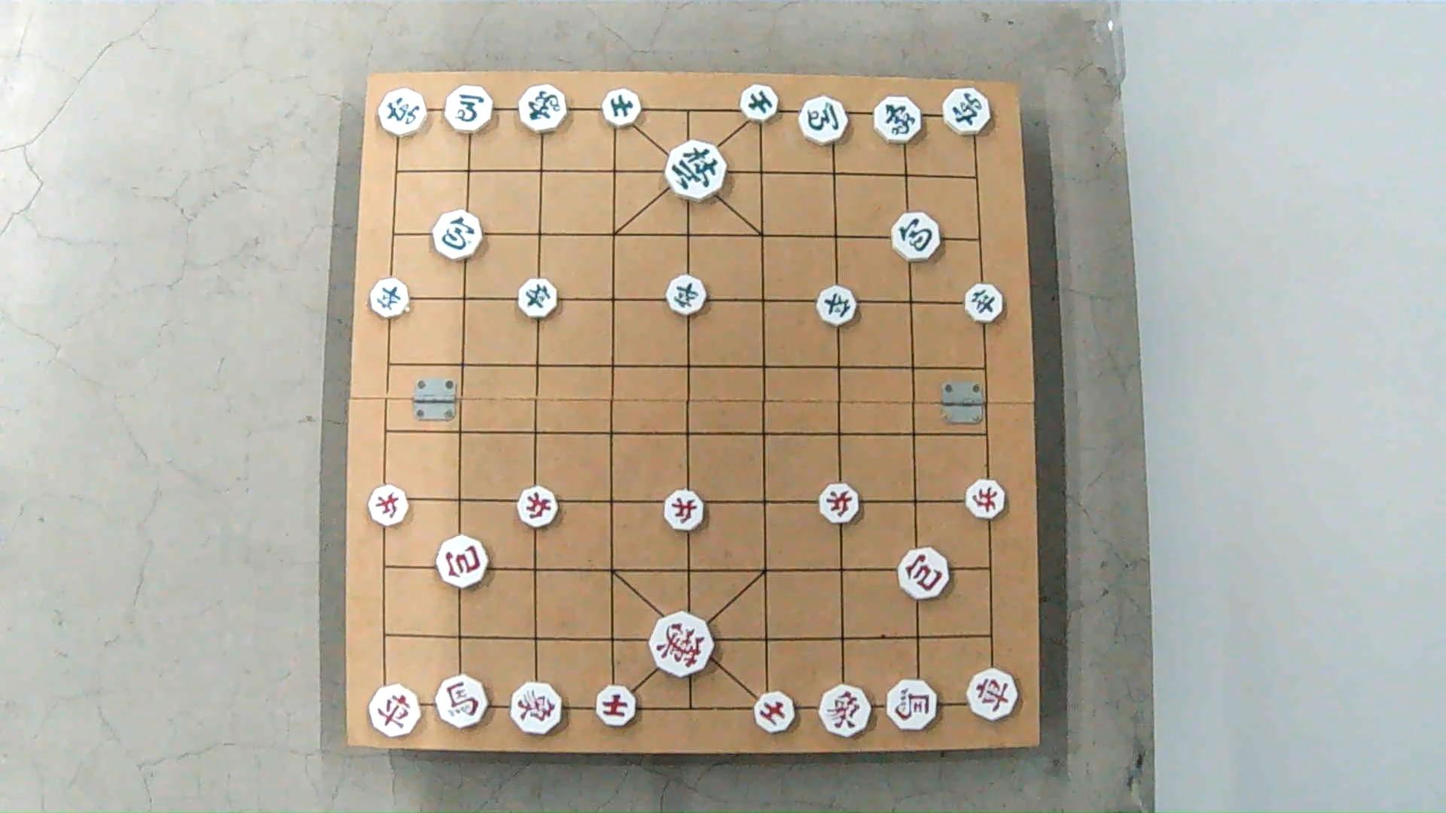cha_green: (377, 86, 427, 136), (943, 90, 993, 136)
cha_red: (966, 665, 1020, 723), (369, 685, 422, 738)
jol_green: (814, 289, 856, 327), (516, 279, 558, 317), (663, 278, 704, 316), (962, 285, 1002, 323), (370, 282, 411, 318)
jol_red: (815, 484, 859, 523), (520, 488, 562, 527), (963, 480, 1005, 519), (660, 491, 702, 530), (369, 487, 411, 525)
ma_green: (799, 96, 850, 145), (445, 87, 496, 131)
ma_red: (883, 677, 941, 731), (432, 678, 487, 728)
po_green: (435, 210, 485, 258), (889, 212, 938, 259)
po_red: (438, 537, 490, 586), (896, 550, 948, 599)
sa_green: (602, 90, 645, 126), (737, 85, 777, 120)
sa_red: (594, 685, 641, 728), (755, 690, 796, 732)
sang_green: (874, 95, 924, 143), (520, 85, 570, 131)
sang_red: (816, 682, 874, 738), (507, 682, 565, 733)
wang_green: (663, 144, 725, 200)
wang_red: (649, 617, 715, 678)
